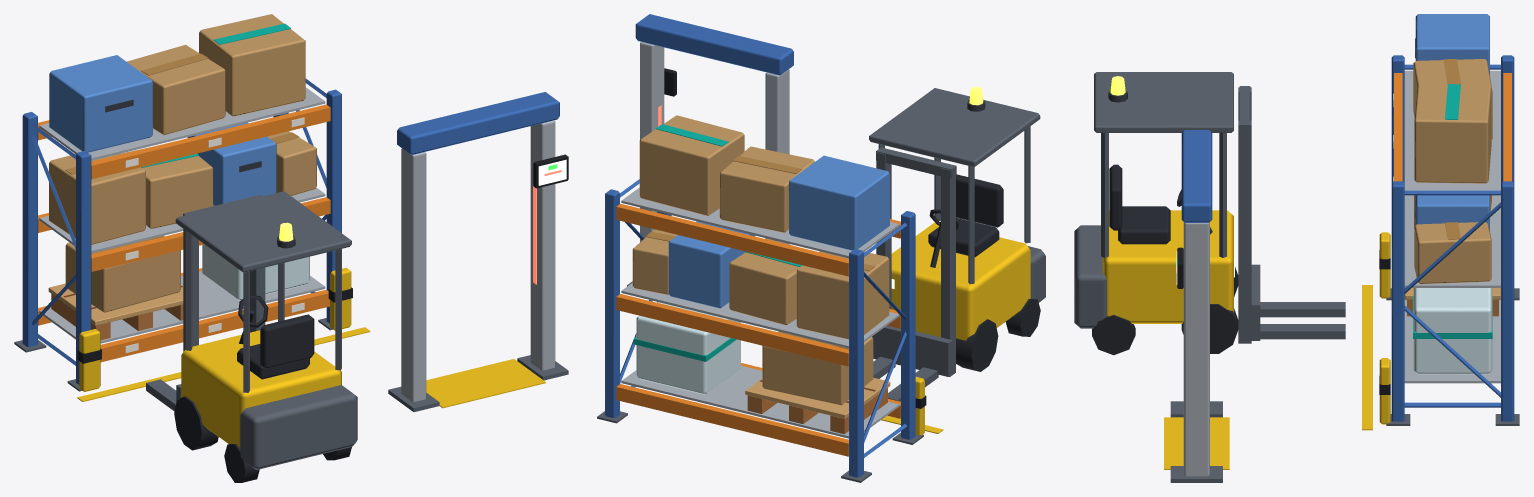
The model's file is station_buffer_2.glb.
3 views of the same model, side by side, from view 1: azimuth 30°, elevation 25°; view 2: azimuth 150°, elevation 25°; view 3: azimuth 270°, elevation 25° (orthographic). The views are drawn at different scales.
Parts seen in each view (by area): view 1: station_buffer_2; view 2: station_buffer_2; view 3: station_buffer_2.
Part boxes in pixels (x1,y1,x2,y2): station_buffer_2: [14, 14, 568, 482]; station_buffer_2: [597, 14, 1045, 482]; station_buffer_2: [1074, 14, 1519, 482].
Bounding box in the file's own units: 2.15 × 1.47 × 2.03.
